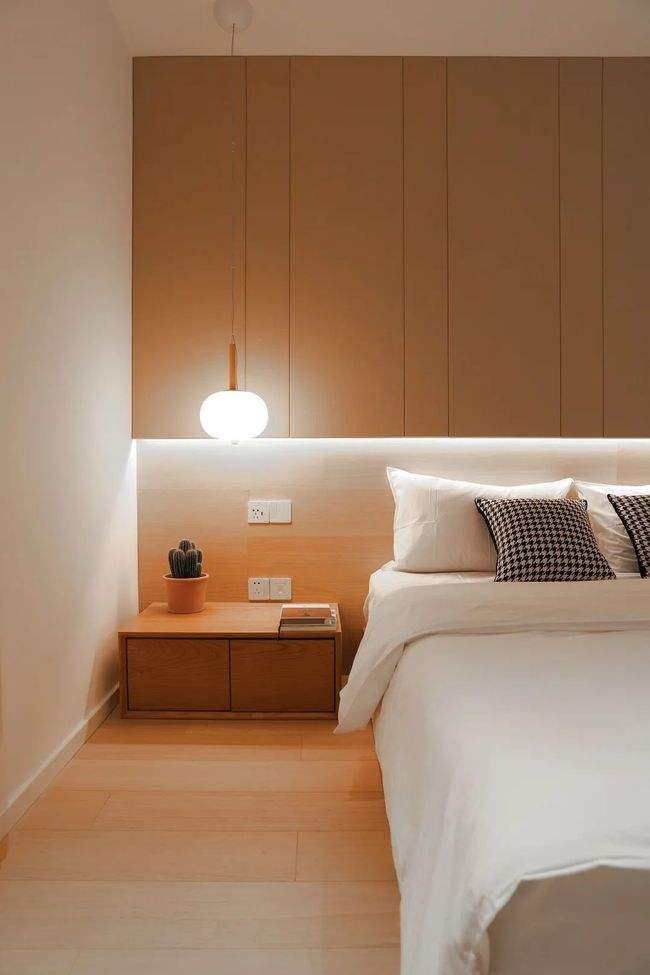床: (361, 501, 650, 967)
枕头: (410, 464, 650, 582)
灯: (191, 384, 267, 444)
